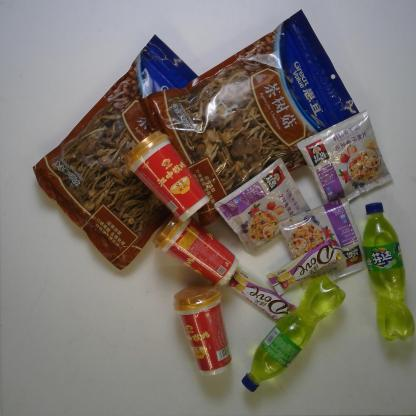Chocolate: (263, 237, 344, 299), (222, 267, 300, 327)
Dried Food: (135, 5, 367, 221), (29, 32, 217, 273)
Drink: (233, 273, 348, 396), (359, 199, 416, 344)
Instant Drink: (289, 107, 396, 208), (209, 155, 313, 255), (115, 128, 212, 224), (273, 195, 368, 292), (145, 214, 241, 290), (171, 277, 233, 381)
